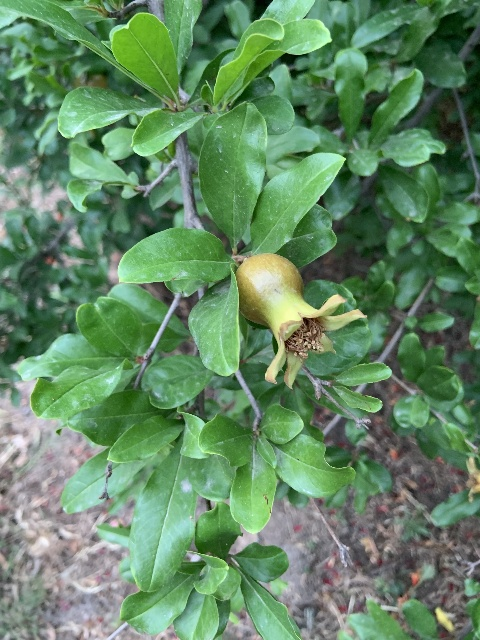early-fruit: (235, 253, 366, 389)
